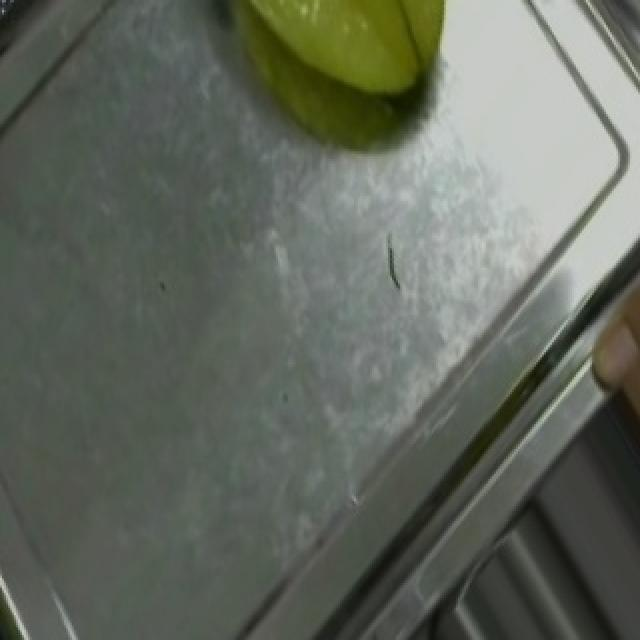fruit: (186, 0, 482, 174), (580, 228, 640, 491)
